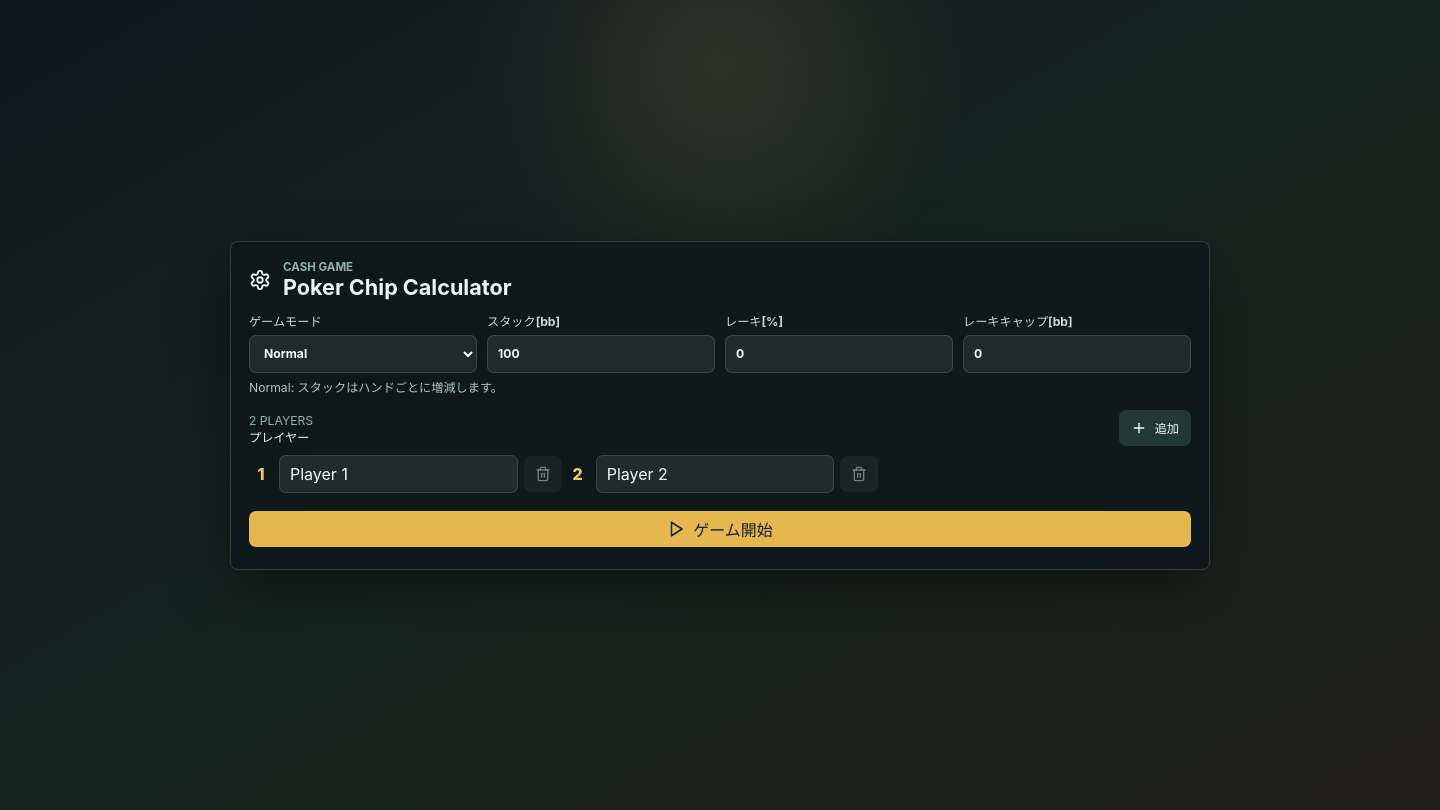
Test case: App › shows player popup controls and revised footer labels
Click the button "ゲーム開始" at (720,528), box [249, 510, 1191, 546]
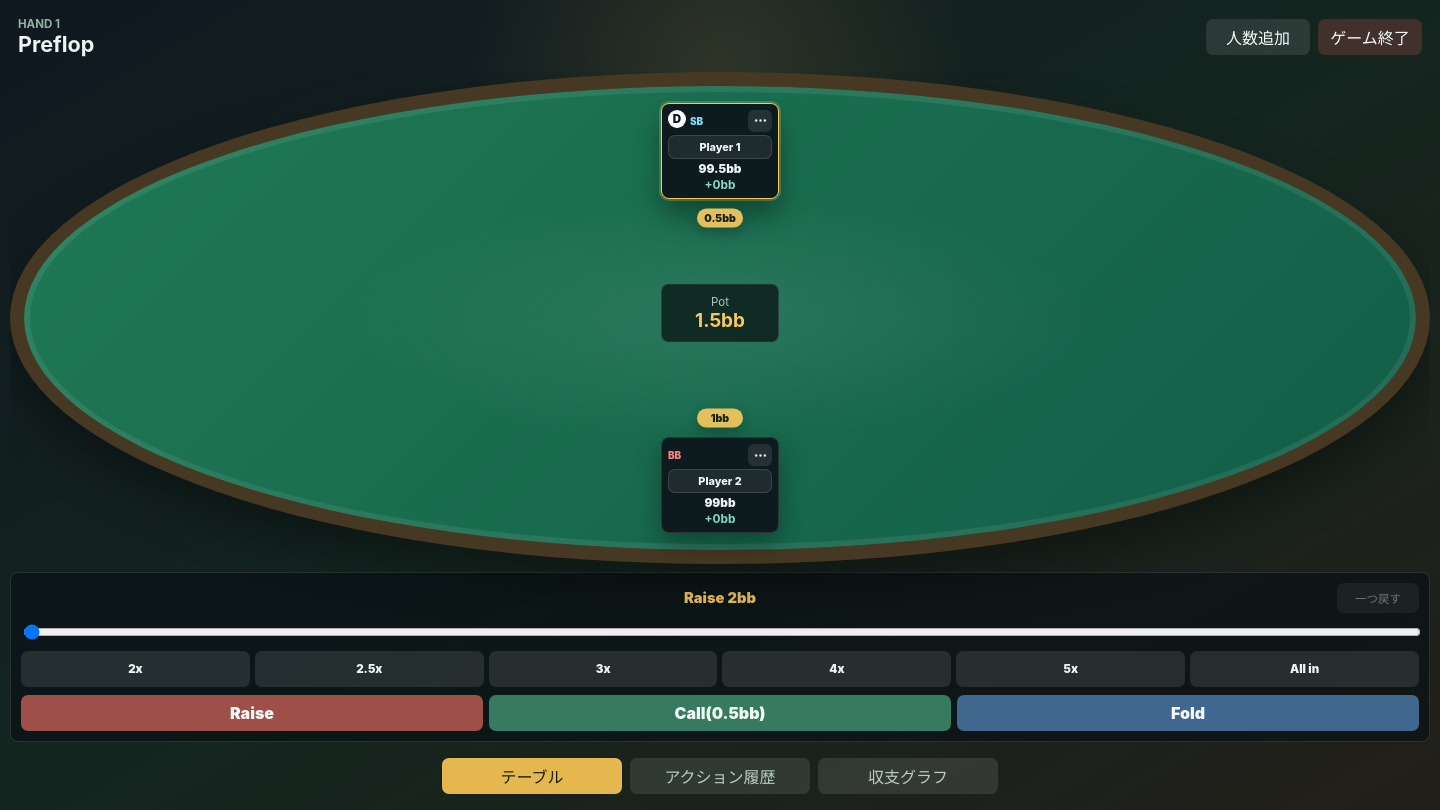
expect the text "テーブル" is shown: met, box [500, 764, 564, 788]
expect the text "アクション履歴" is shown: met, box [664, 764, 776, 788]
expect the text "収支グラフ" is shown: met, box [868, 764, 948, 788]
Click the button titled "プレイヤー操作" next to "SB" at (760,121), box [748, 110, 772, 132]
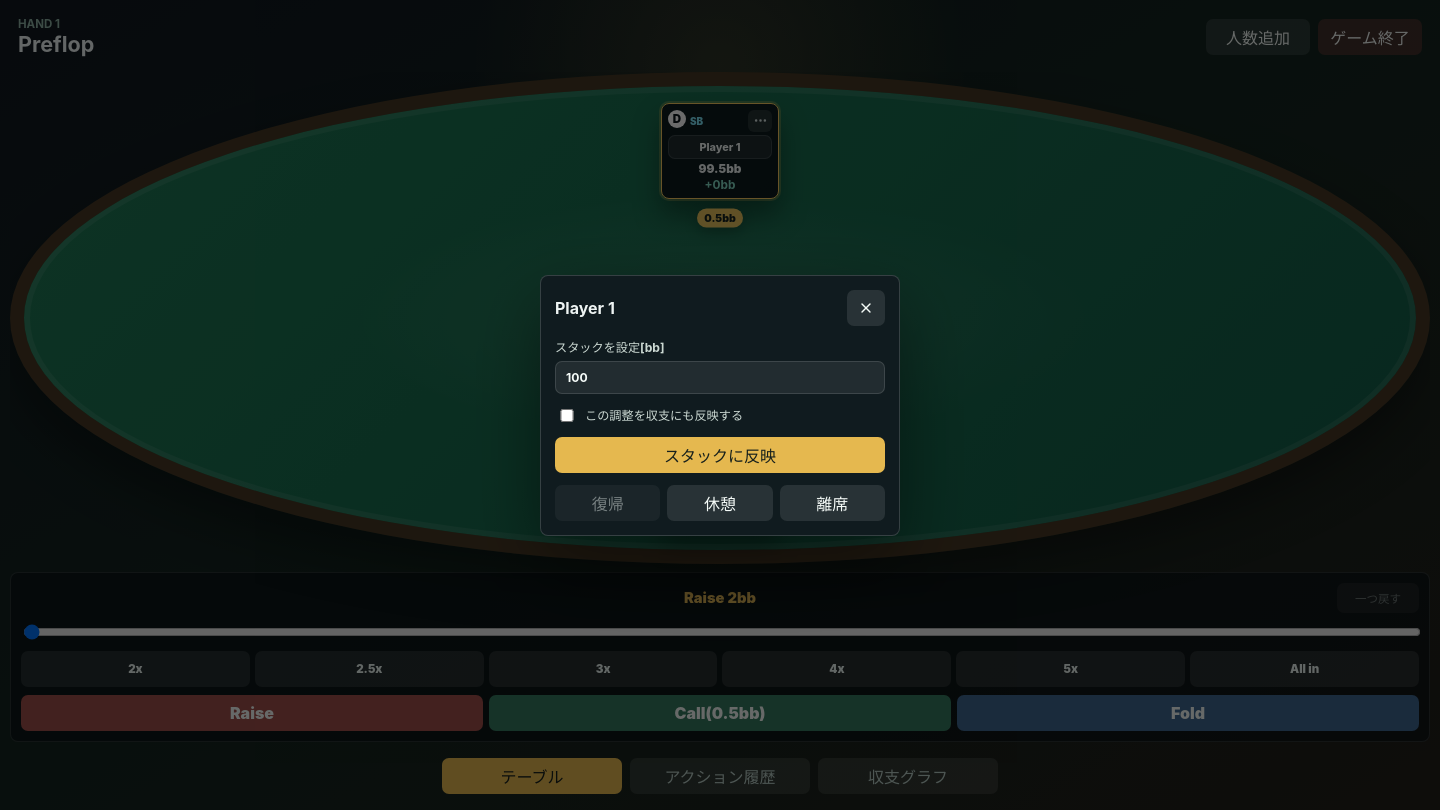
expect the text "スタックを設定[bb]" is shown: met, box [555, 340, 665, 354]
expect the text "この調整を収支にも反映する" is shown: met, box [559, 408, 743, 423]
expect the number field labelled "スタックを設定[bb]" is enabled: met, box [555, 360, 885, 394]
